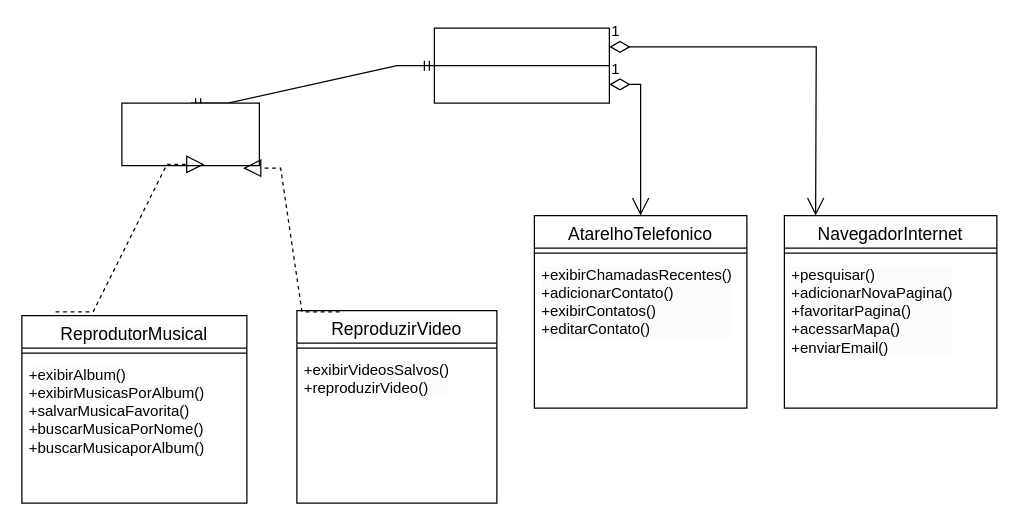
This 1019x528 diagram has some shape labels left out. The centre of each missing label's shape, as x and y in pixels:
"iPhone" goes at pixel 521 65.
"«interface» ReprodutorMidia" goes at pixel 190 134.
